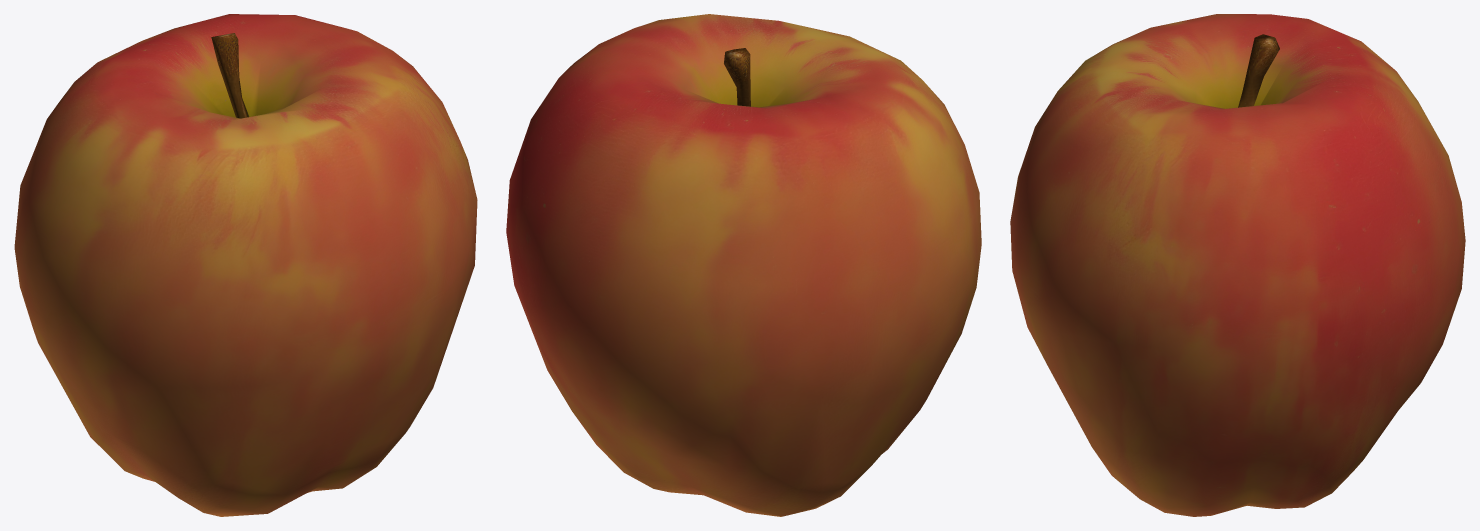
The model's file is market-apple.glb.
3 renders of one model, left to right at view 1: azimuth 30°, elevation 25°; view 2: azimuth 150°, elevation 25°; view 3: azimuth 270°, elevation 25°, orthographic. The views are drawn at different scales.
Visible parts, largest first — view 1: tripo_node_d0d15a89-224b-412a-9d9c-f95a9c99e83e; view 2: tripo_node_d0d15a89-224b-412a-9d9c-f95a9c99e83e; view 3: tripo_node_d0d15a89-224b-412a-9d9c-f95a9c99e83e.
Boxes of the visible parts, bbox=[...] form: tripo_node_d0d15a89-224b-412a-9d9c-f95a9c99e83e: bbox=[14, 14, 477, 516]; tripo_node_d0d15a89-224b-412a-9d9c-f95a9c99e83e: bbox=[506, 14, 981, 516]; tripo_node_d0d15a89-224b-412a-9d9c-f95a9c99e83e: bbox=[1010, 14, 1465, 516].
Bounding box in the file's own units: 0.9863 × 0.998 × 0.9395.
1 material, 1 textured.
